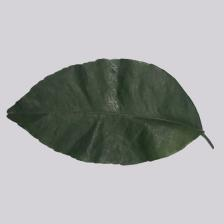healthy: (5, 58, 204, 165)
